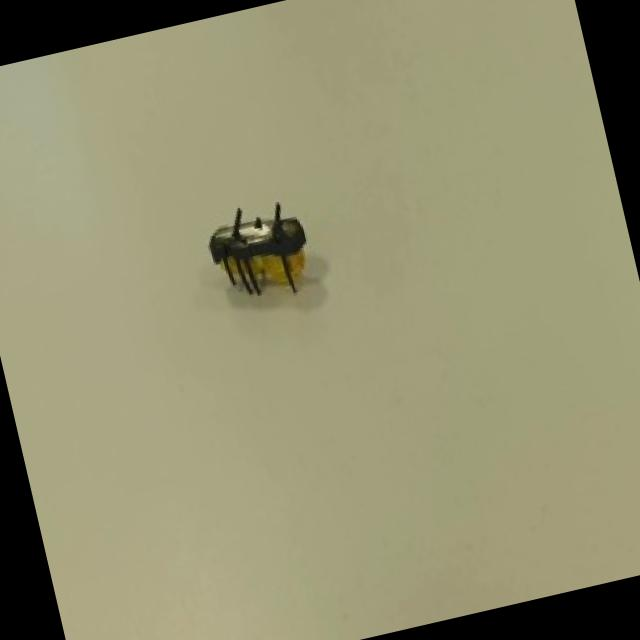6_NanoBug_GrisOscuro: (164, 142, 350, 308)
